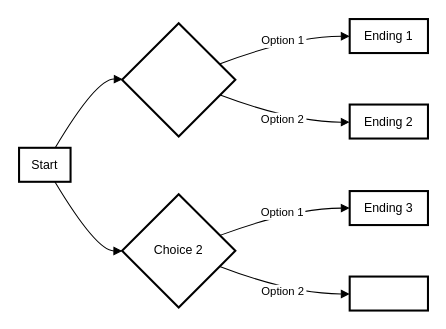
Image size: 446x329. Some labels were removed from this diagram. Here are the shapes that lost their labels. From the top down, the box of each, then its label:
(121, 22, 236, 137): Choice 1
(348, 275, 428, 311): Ending 4
